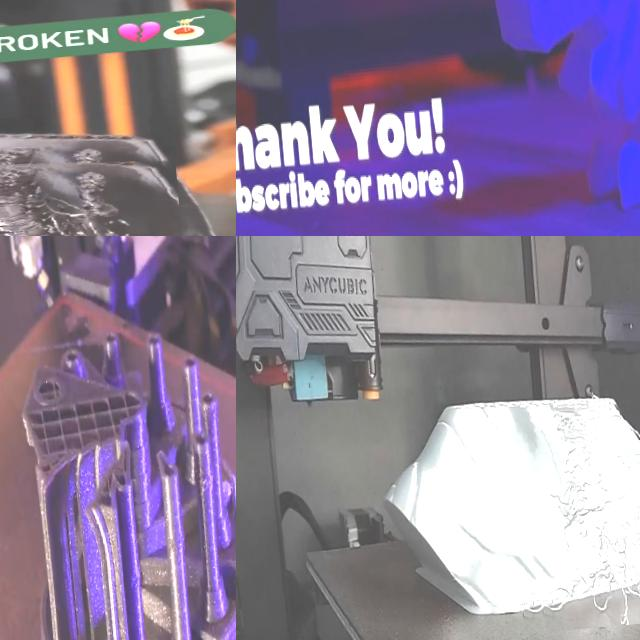spaghetti: (504, 389, 640, 634), (0, 131, 205, 236)
